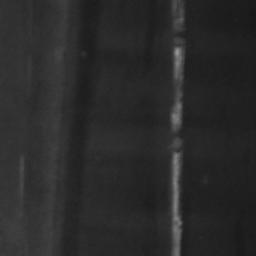Bright scratch: (170, 0, 186, 256)
